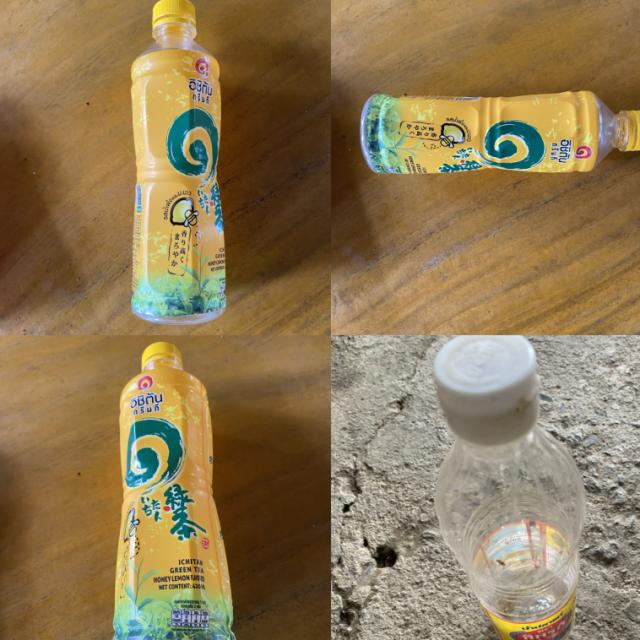plastik: (434, 335, 586, 640), (113, 342, 236, 640), (132, 0, 227, 324), (360, 91, 640, 174)
